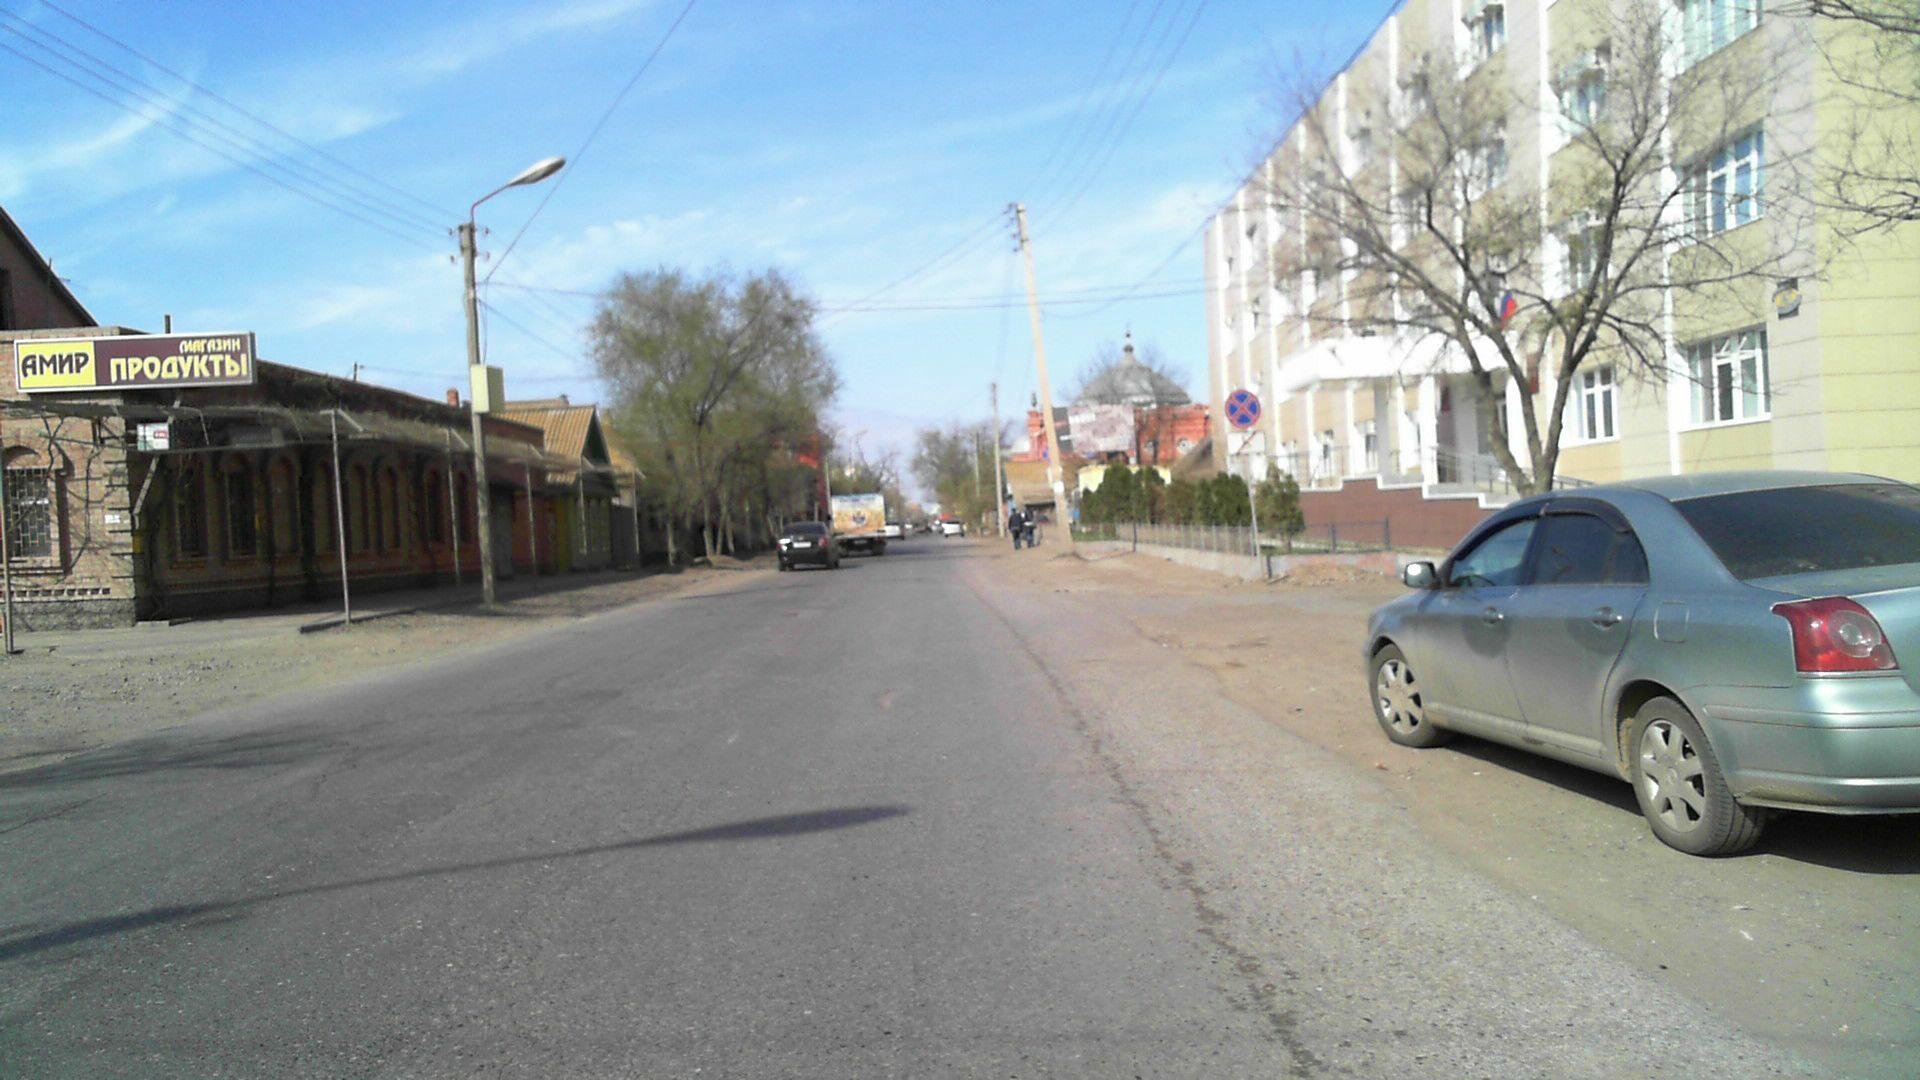3_27: (1224, 389, 1263, 429)
8_18: (1226, 433, 1265, 454)
